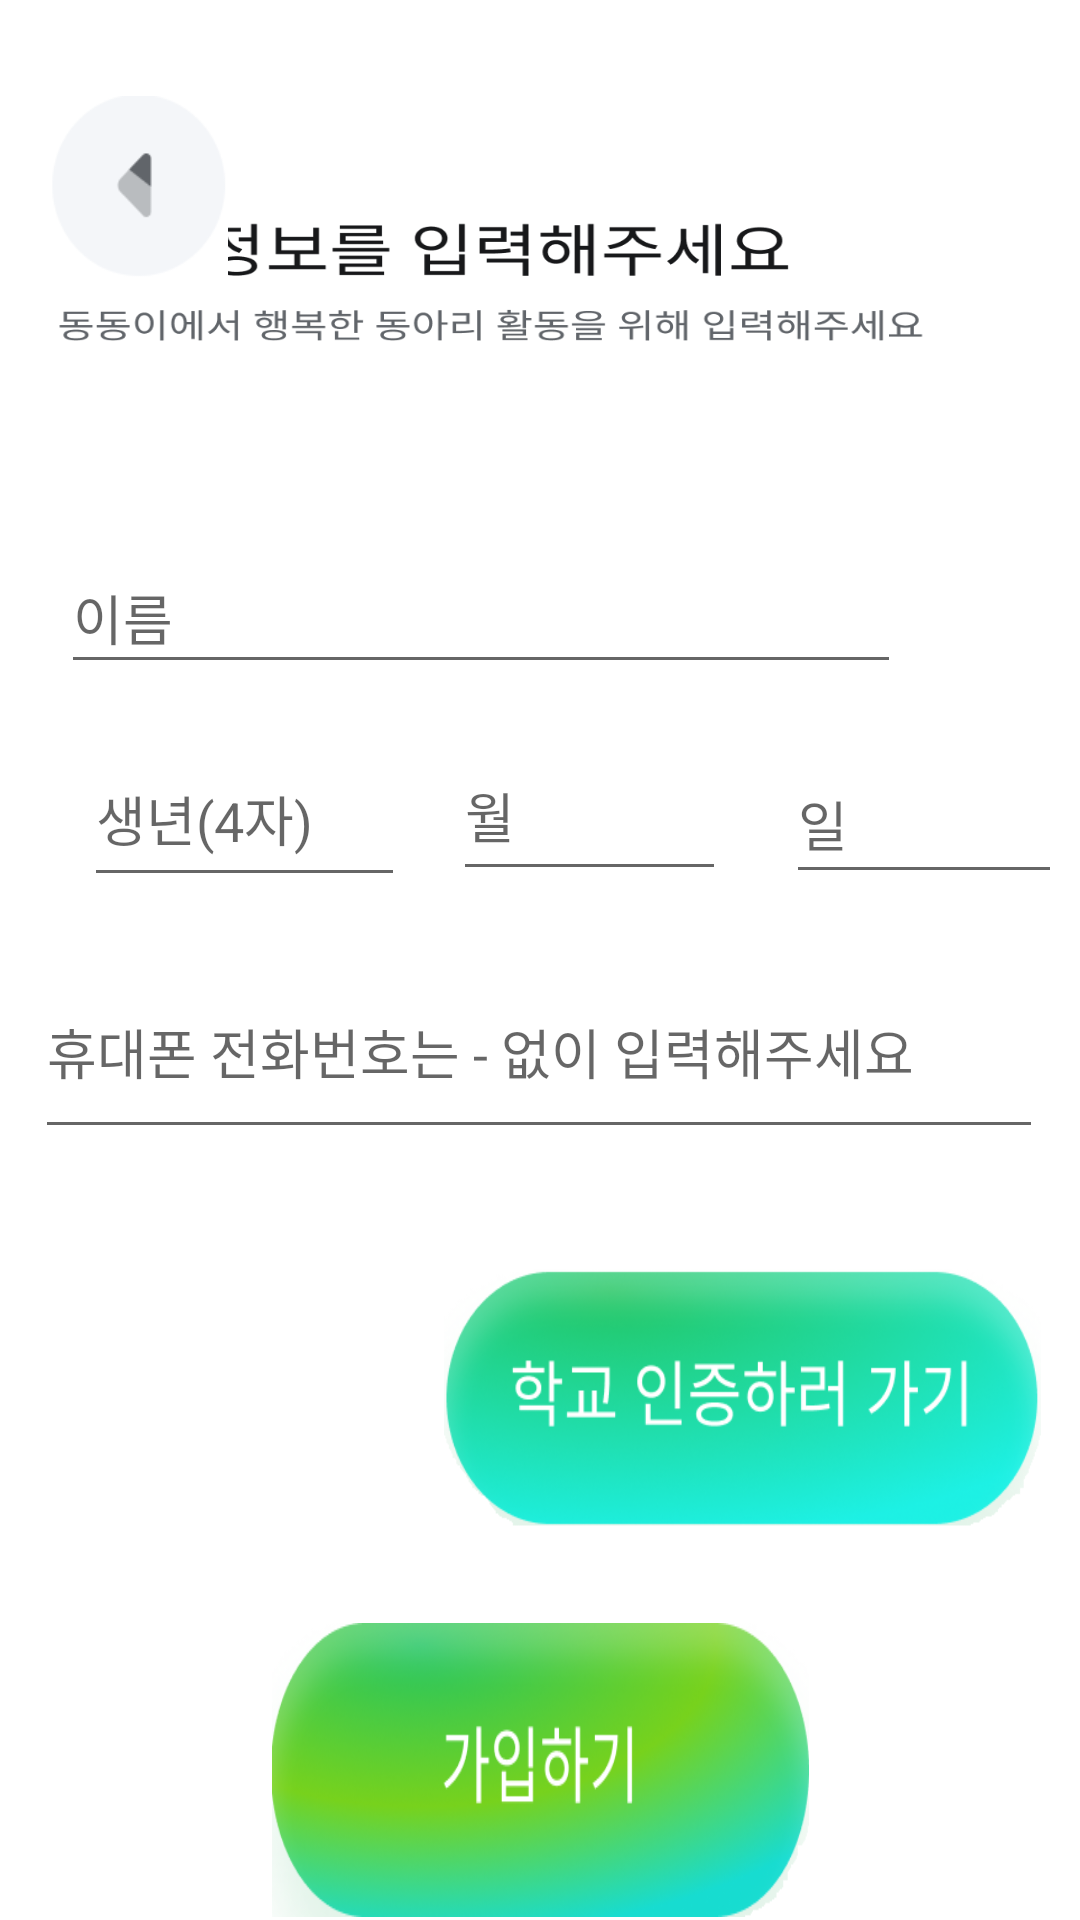

Locate icon controls on the screen. Image size 1080w x 1920h, boxes as (x1, y1, x2, y2).
userinfoeback: (117, 153, 152, 217)
